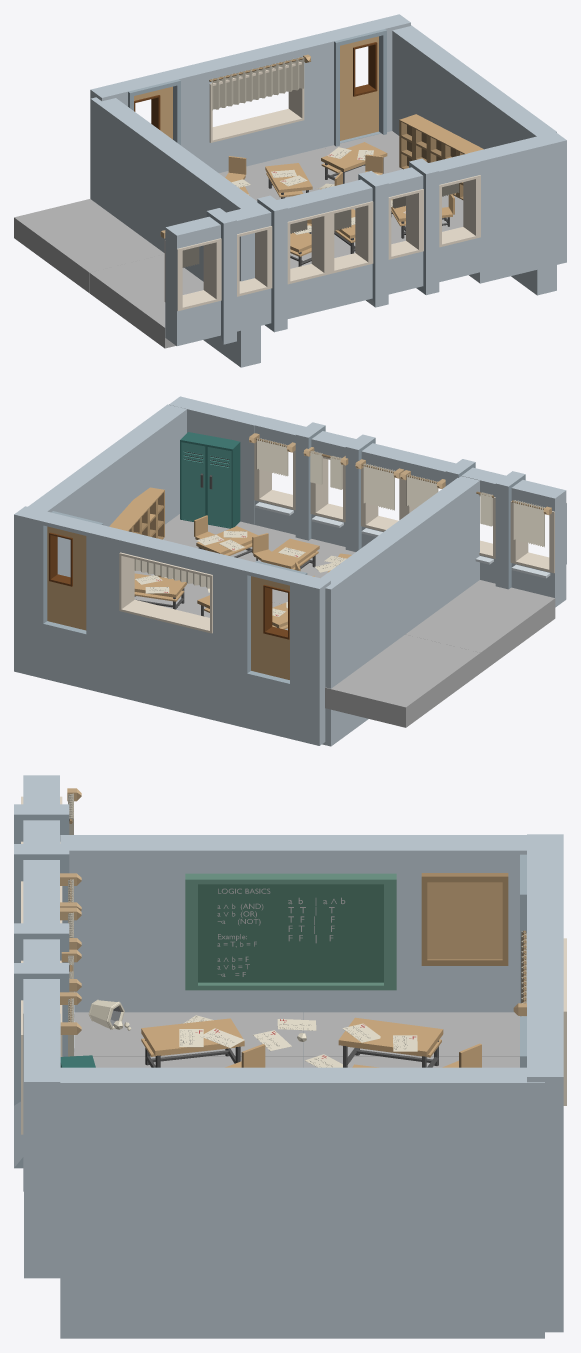
The model's file is SCHOOLROOM.fbx.
The picture shows the model from 3 angles, top to bottom: view 1: azimuth 30°, elevation 25°; view 2: azimuth 150°, elevation 25°; view 3: azimuth 270°, elevation 25°; orthographic projection. The views are drawn at different scales.
Visible parts, largest first — view 1: Cube.057, Cube.103, Cylinder.047, Cylinder.048, Cylinder.042; view 2: Cube.057, Cube.045, Cube.103, Cylinder.040, Cylinder.047, Cylinder.041; view 3: Cube.057, Cylinder.049, Cylinder.042, Cylinder.030.
Part boxes in pixels (<box>): Cube.057: <box>14,14,566,367</box>; Cube.103: <box>399,114,483,199</box>; Cylinder.047: <box>321,142,387,183</box>; Cylinder.048: <box>265,163,312,198</box>; Cylinder.042: <box>290,232,311,266</box>; Cube.057: <box>14,396,566,746</box>; Cube.045: <box>180,432,240,528</box>; Cube.103: <box>109,487,164,539</box>; Cylinder.040: <box>261,538,319,569</box>; Cylinder.047: <box>134,573,186,609</box>; Cylinder.041: <box>196,526,257,557</box>; Cube.057: <box>14,775,566,1338</box>; Cylinder.049: <box>338,1017,443,1067</box>; Cylinder.042: <box>141,1018,244,1067</box>; Cylinder.030: <box>88,999,124,1029</box>.
Size of the model in its own units: 4101 by 1624 by 3114.
